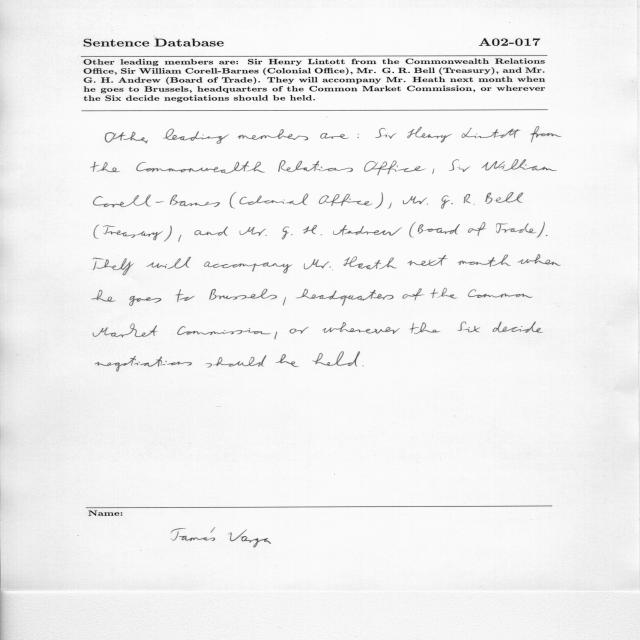word: (136, 161, 265, 174), (296, 289, 394, 306), (93, 195, 220, 208), (95, 356, 192, 372), (94, 225, 181, 242), (204, 262, 292, 274), (163, 129, 229, 144), (322, 322, 400, 334), (364, 161, 426, 176), (93, 324, 158, 338), (278, 160, 353, 172), (177, 326, 271, 335), (481, 160, 557, 171), (206, 355, 267, 368), (238, 130, 309, 141), (240, 194, 309, 205), (209, 289, 277, 300), (407, 127, 452, 143), (313, 352, 361, 367), (93, 258, 134, 275), (344, 257, 397, 270), (319, 194, 372, 206), (458, 255, 511, 267), (462, 128, 521, 138), (146, 256, 191, 269), (468, 289, 533, 298), (344, 226, 402, 236), (493, 322, 543, 333), (517, 254, 561, 266), (106, 132, 149, 144), (530, 127, 562, 143), (486, 192, 524, 204), (407, 255, 448, 266), (418, 224, 460, 234), (496, 224, 537, 234), (410, 322, 441, 334), (194, 226, 228, 236), (129, 296, 161, 306), (304, 259, 333, 270), (276, 354, 299, 367), (430, 288, 457, 299), (91, 162, 120, 172), (92, 290, 116, 302), (449, 159, 471, 172), (402, 289, 425, 301), (321, 225, 348, 235), (175, 290, 195, 303), (468, 222, 486, 236), (239, 227, 266, 236), (375, 128, 397, 139), (457, 322, 480, 332), (403, 196, 428, 204), (320, 133, 349, 139), (441, 195, 453, 209), (282, 227, 293, 240), (289, 327, 309, 334), (375, 192, 383, 209), (536, 222, 545, 237), (303, 225, 317, 234), (464, 194, 475, 204), (409, 222, 416, 237), (230, 192, 236, 208), (388, 202, 392, 209), (283, 297, 286, 306), (274, 332, 277, 340), (432, 169, 434, 175), (357, 134, 359, 138), (265, 235, 267, 236), (546, 235, 548, 236), (362, 366, 364, 366)
